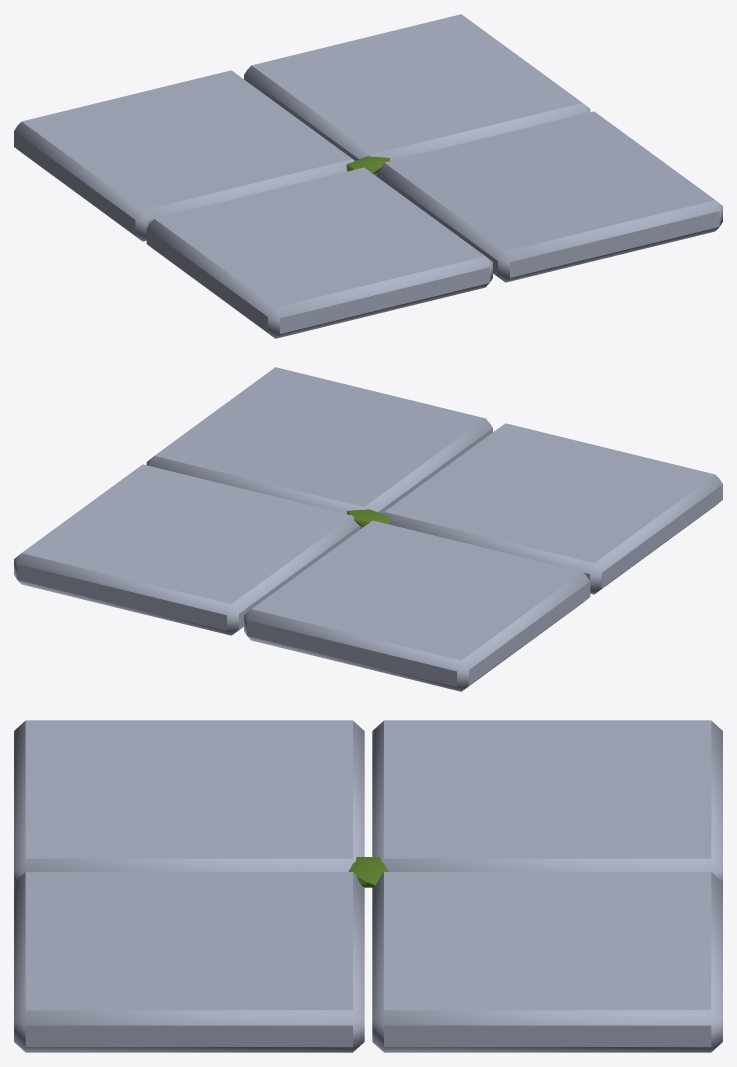
File: b_platte.glb
3 renders of one model, top to bottom at view 1: azimuth 30°, elevation 25°; view 2: azimuth 150°, elevation 25°; view 3: azimuth 270°, elevation 25°, orthographic. The views are drawn at different scales.
Visible parts, largest first — view 1: body; view 2: body; view 3: body.
Part boxes in pixels (x1=…): body: x1=14, y1=14, x2=722, y2=338; body: x1=14, y1=367, x2=722, y2=691; body: x1=14, y1=720, x2=722, y2=1052.
Bounding box in the file's own units: 1.82 × 0.124 × 1.82.
